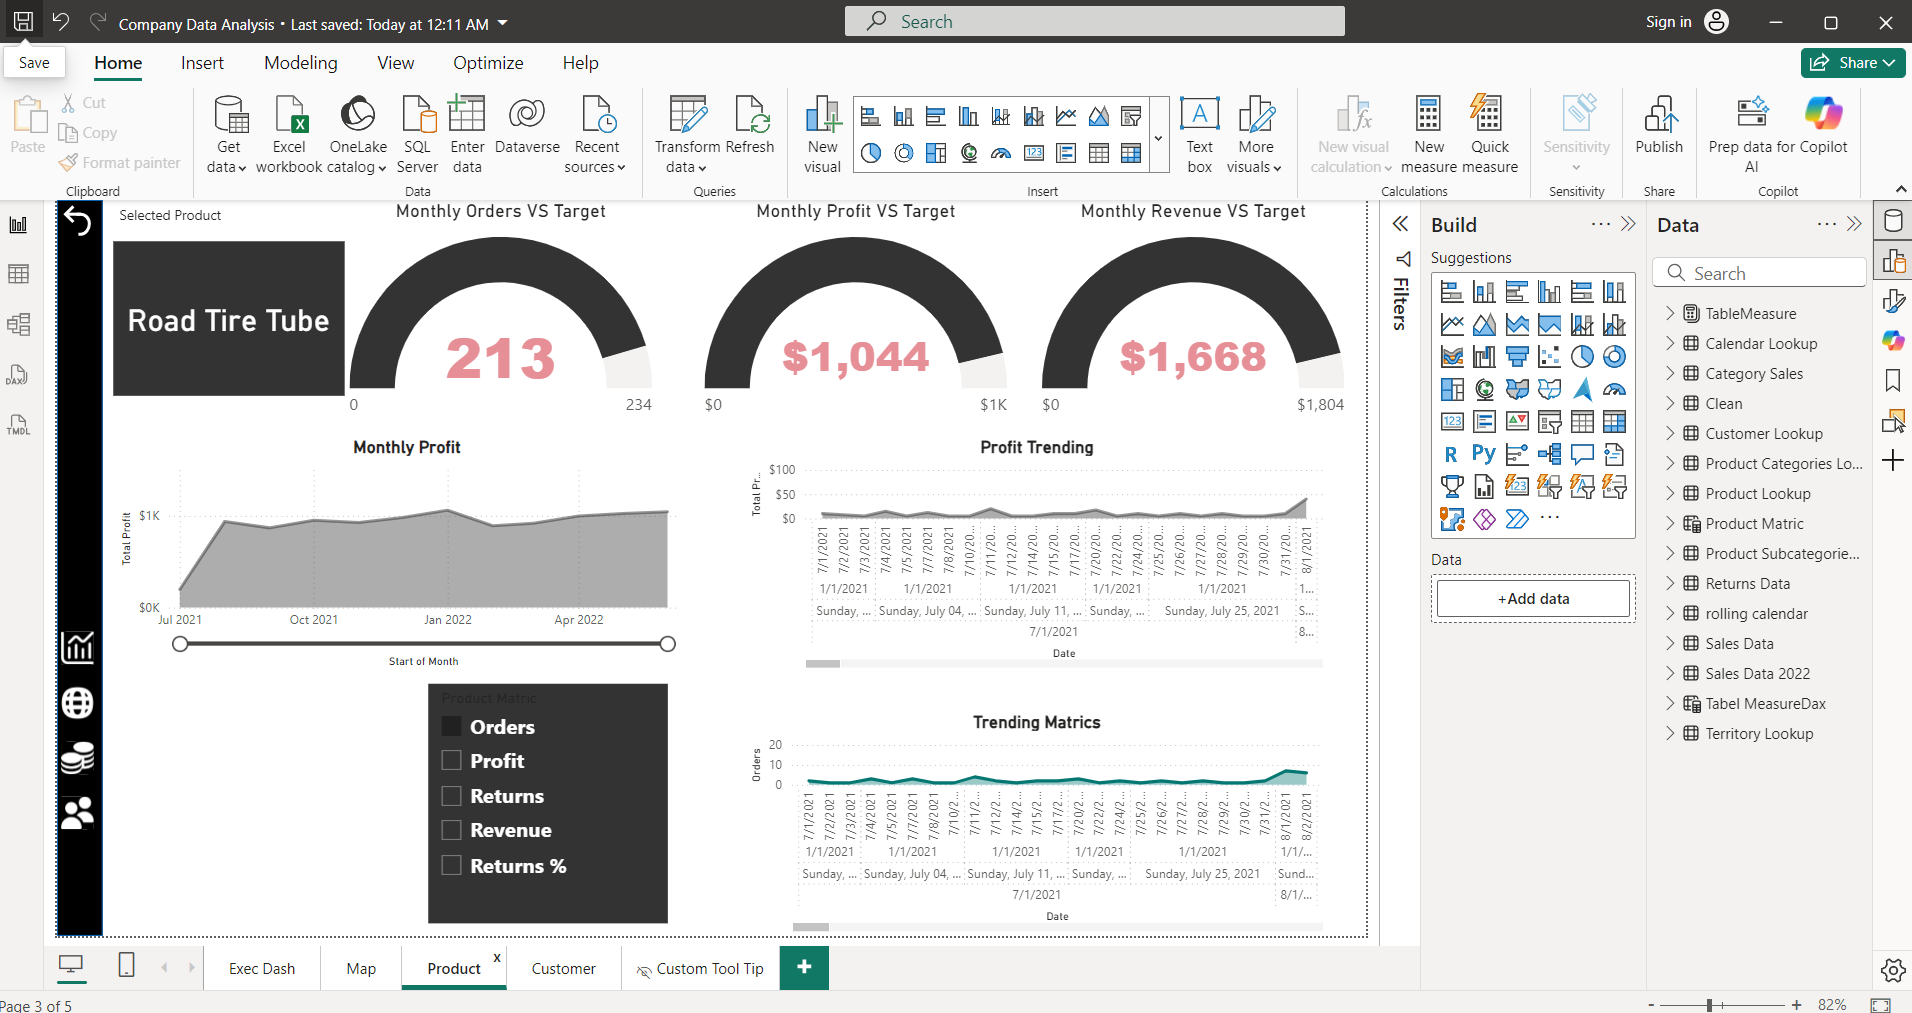

The page's visual inventory and layout, read from the dashboard file:
{"tool":"powerbi","page":{"name":"Product","canvas":[1280,720],"ordinal":2},"visuals":[{"type":"gauge","title":"Monthly Orders VS Target","fields":{"MaxValue":["TableMeasure.Orders Target"],"Y":["TableMeasure.total orders"]},"box":[281.2,0,306.1,231.4],"z":0},{"type":"actionButton","box":[0,580,45.7,40],"z":0,"group":"g1"},{"type":"gauge","title":"Monthly Profit VS Target","fields":{"Y":["TableMeasure.Total Profit"],"MaxValue":["TableMeasure.Target Profit"]},"box":[628.3,0,306.1,231.4],"z":1000},{"type":"actionButton","box":[0,525.7,45.7,40],"z":1000,"group":"g1"},{"type":"gauge","title":"Monthly Revenue VS Target","fields":{"Y":["TableMeasure.Total Revenue"],"MaxValue":["TableMeasure.Target Revenue"]},"box":[959.3,0,306.1,231.4],"z":2000},{"type":"actionButton","box":[0,472.9,45.7,40],"z":2000,"group":"g1"},{"type":"actionButton","box":[0,418.6,45.7,40],"z":3000,"group":"g1"},{"type":"areaChart","title":"Monthly Profit","fields":{"Category":["Calendar Lookup.Start of Month"],"Y":["TableMeasure.Total Profit"]},"box":[57.7,230.8,569.9,230.8],"z":3000},{"type":"areaChart","title":"Trending Matrics","fields":{"Y":["TableMeasure.total orders","TableMeasure.Total Profit","TableMeasure.Total Returns","TableMeasure.Total Revenue","TableMeasure.Returns Rate"],"Category":["Calendar Lookup.Start of Month Hierarchy.Start of Month","Calendar Lookup.Start of Month Hierarchy.Start of Week","Calendar Lookup.Start of Month Hierarchy.Start of Year","Calendar Lookup.Start of Month Hierarchy.Date"]},"box":[674.3,500,570,220],"z":4000},{"type":"areaChart","title":"Profit Trending","fields":{"Y":["TableMeasure.Total Profit"],"Category":["Calendar Lookup.Start of Month Hierarchy.Start of Month","Calendar Lookup.Start of Month Hierarchy.Start of Week","Calendar Lookup.Start of Month Hierarchy.Start of Year","Calendar Lookup.Start of Month Hierarchy.Date"]},"box":[674.3,231.4,570,231.4],"z":5000},{"type":"card","fields":{"Values":["Min(Product Lookup.ProductName)"]},"box":[54.8,40.4,226.5,151.5],"z":6000},{"type":"textbox","box":[56.3,0,226.5,39],"z":7000},{"type":"shape","box":[0,0,44.7,719.9],"z":8000},{"type":"group","id":"g1","title":"Navigate Button","box":[0,418.6,45.7,201.4],"z":9000},{"type":"actionButton","box":[0,0,45.7,40],"z":10000},{"type":"slicer","fields":{"Values":["Product Matric.Product Matric"]},"box":[382.9,481.4,234.3,235.7],"z":11000}]}

Visuals, with their boxes on the page's 1280x720 design canvas (x1, y1, x2, y2). These are canvas units, not pixel positions in the 1912x1013 screenshot, which may show the page scaled, cropped or inside an application window:
"Monthly Orders VS Target" gauge: <region>281, 0, 587, 231</region>
actionButton: <region>0, 580, 46, 620</region>
"Monthly Profit VS Target" gauge: <region>628, 0, 934, 231</region>
actionButton: <region>0, 526, 46, 566</region>
"Monthly Revenue VS Target" gauge: <region>959, 0, 1265, 231</region>
actionButton: <region>0, 473, 46, 513</region>
actionButton: <region>0, 419, 46, 459</region>
"Monthly Profit" areaChart: <region>58, 231, 628, 462</region>
"Trending Matrics" areaChart: <region>674, 500, 1244, 720</region>
"Profit Trending" areaChart: <region>674, 231, 1244, 463</region>
card - Min(Product Lookup.ProductName): <region>55, 40, 281, 192</region>
textbox: <region>56, 0, 283, 39</region>
shape: <region>0, 0, 45, 720</region>
"Navigate Button" group: <region>0, 419, 46, 620</region>
actionButton: <region>0, 0, 46, 40</region>
slicer - Product Matric.Product Matric: <region>383, 481, 617, 717</region>
